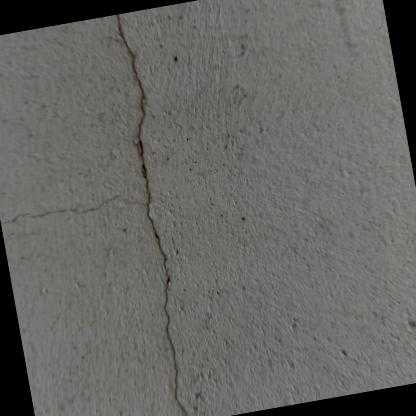crack: (115, 13, 188, 416)
